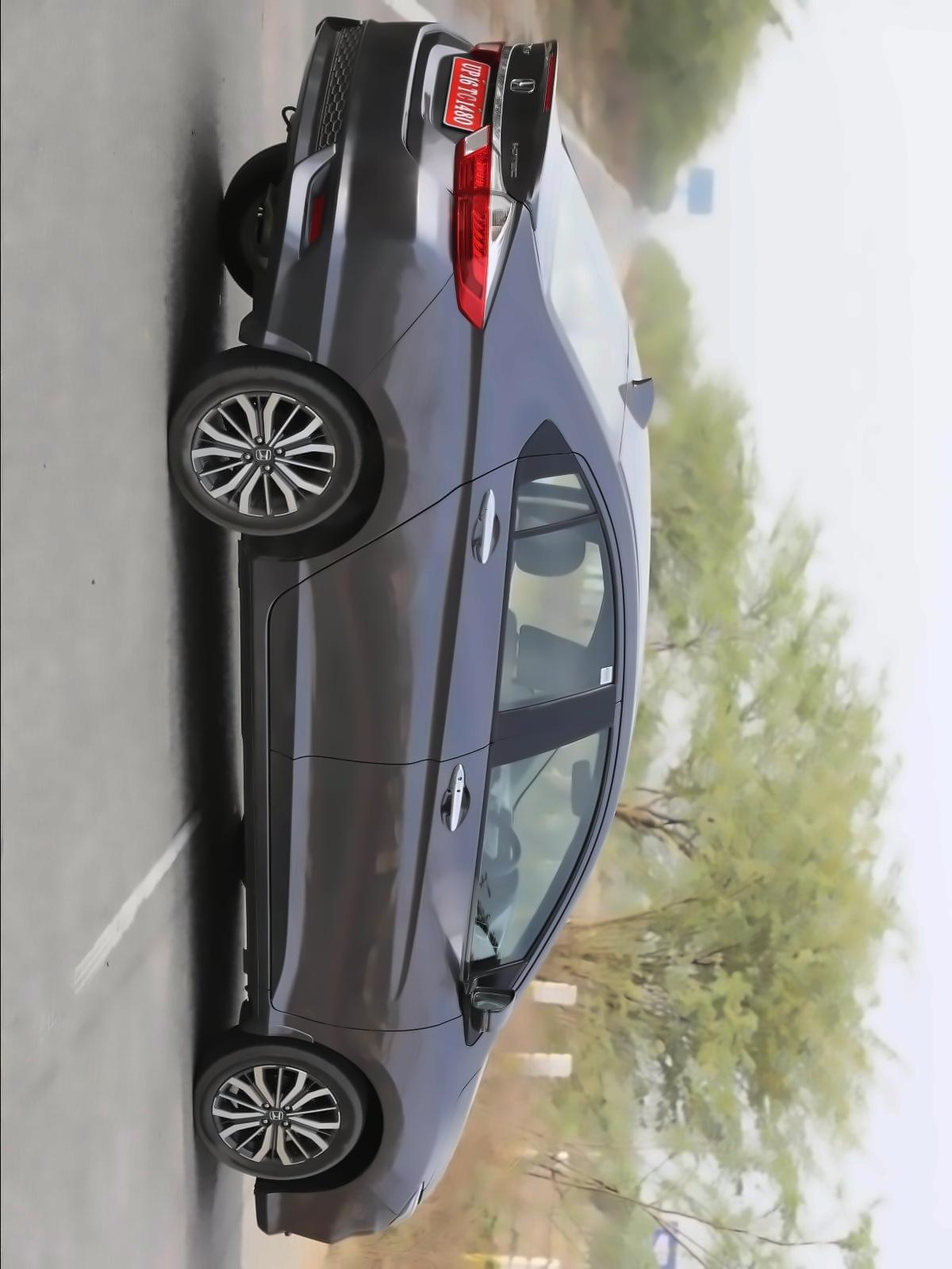Car boot: (397, 8, 578, 240)
Car hood: (414, 1069, 486, 1239)
Driver-s door - -F-R-: (264, 756, 625, 1030)
Fender - -F-R-: (242, 1011, 493, 1213)
Fender - -R-R-: (242, 280, 554, 584)
Front bumper: (244, 1173, 383, 1253)
Passenger-s door - -R-R-: (264, 442, 632, 758)
Rear bumper: (232, 0, 450, 379)
Rear light - -L-: (458, 20, 515, 67)
Rear light - -R-: (431, 125, 522, 336)
Side bumper - -R-: (230, 522, 287, 1055)
Side mirror - -R-: (462, 976, 536, 1033)
